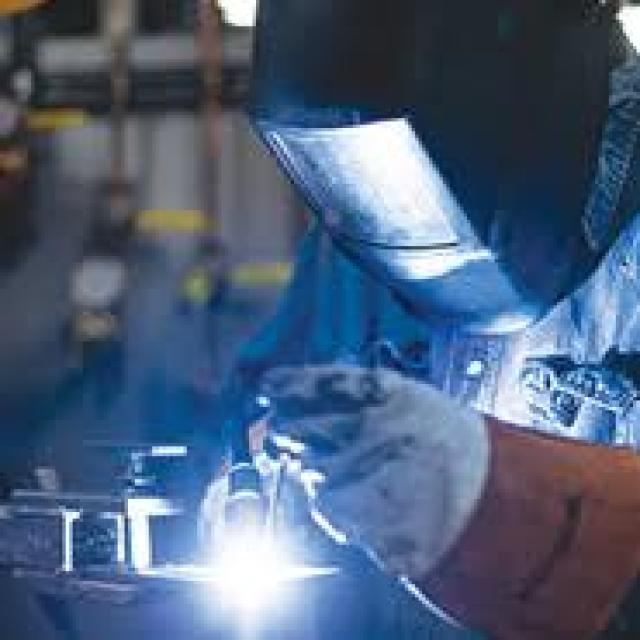welding: (205, 534, 297, 623)
